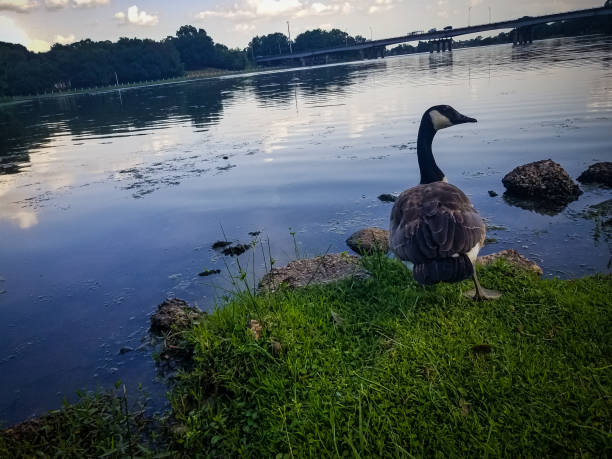goose: (384, 102, 484, 308)
